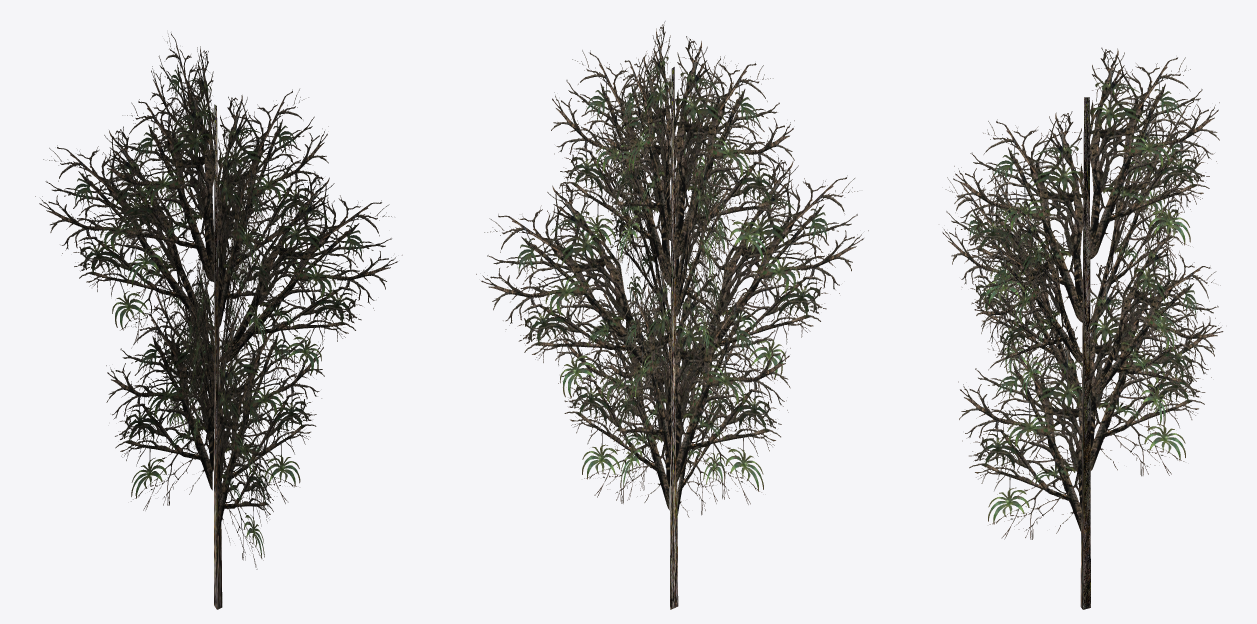
Rendered from leaf_dath_ongmuelplant_l1.fbx.
The picture shows the model from 3 angles, left to right: view 1: azimuth 30°, elevation 25°; view 2: azimuth 150°, elevation 25°; view 3: azimuth 270°, elevation 25°; orthographic projection. The views are drawn at different scales.
Parts seen in each view (by area): view 1: mesh_node; view 2: mesh_node; view 3: mesh_node.
Boxes of the visible parts, box(x1,y1,x2,y2) form: mesh_node: box(35, 33, 402, 609); mesh_node: box(476, 21, 868, 609); mesh_node: box(942, 47, 1223, 609).
Size of the model in its own units: 2.27 by 4.27 by 2.22.
